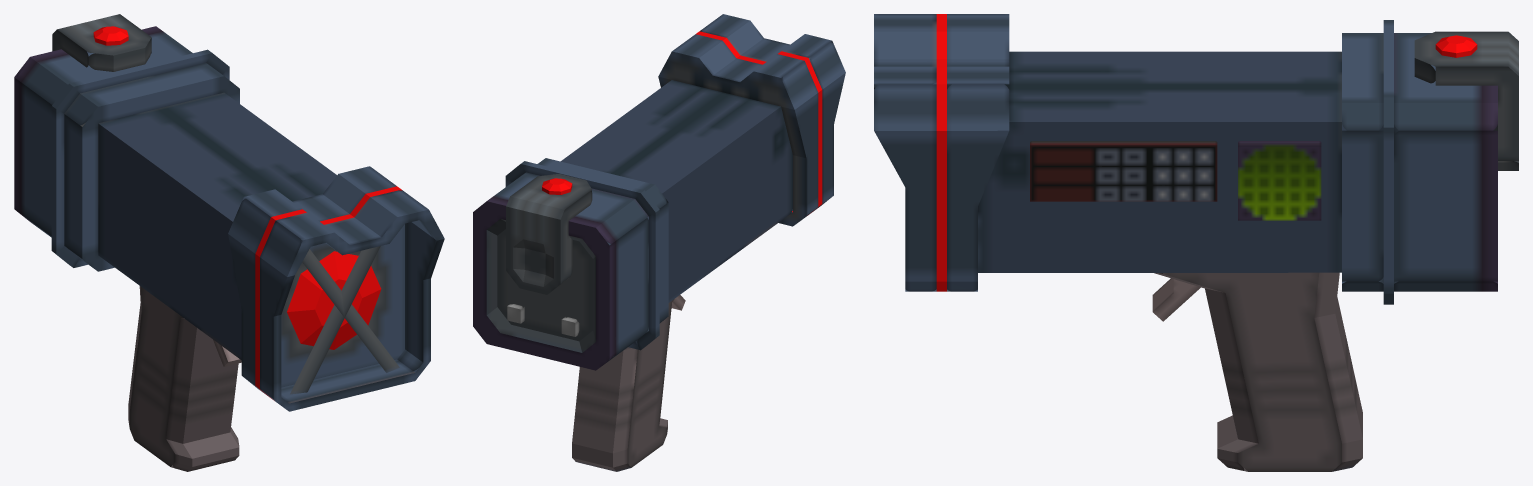
File: detonator_laser.obj
3 renders of one model, left to right at view 1: azimuth 30°, elevation 25°; view 2: azimuth 150°, elevation 25°; view 3: azimuth 270°, elevation 25°, orthographic. The views are drawn at different scales.
Parts seen in each view (by area): view 1: Main, Lights; view 2: Main, Lights; view 3: Main, Lights.
Boxes of the visible parts, <box> form: Main: <box>14,14,444,471</box>; Lights: <box>93,26,402,399</box>; Main: <box>473,14,845,471</box>; Lights: <box>542,31,822,215</box>; Main: <box>874,14,1518,471</box>; Lights: <box>936,14,1477,291</box>.
Bounding box in the file's own units: 1.38 × 2.75 × 3.88.
